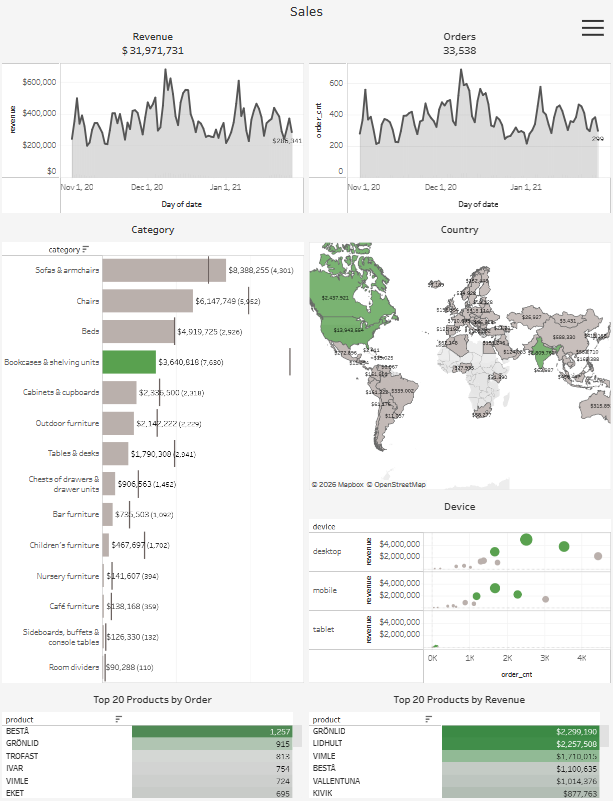

What the dashboard file says about the page in this screenshot:
{"tool":"tableau","page":{"name":"Sales","canvas":[1000,1300],"ordinal":0},"visuals":[{"type":"title","box":[9,9,982,45]},{"type":"dashboard-object","box":[938.9,33.8,37.8,41.6]},{"type":"worksheet","title":"Revenue dynamic","mark":"Automatic","rows":["revenue","revenue"],"cols":["date"],"box":[9,54,491,307]},{"type":"worksheet","title":"Orders dynamic","mark":"Automatic","rows":["order_cnt","order_cnt"],"cols":["date"],"box":[500,54,491,307]},{"type":"filter","title":"Orders dynamic","param":"[federated.07ajvkk1v1vy5j1cp0yjr1rzmz9s].[none:date:qk]","box":[732.2,91,243.3,94.9]},{"type":"filter","title":"Orders dynamic","param":"[federated.07ajvkk1v1vy5j1cp0yjr1rzmz9s].[none:country:nk]","box":[732.2,185.9,243.3,79.3]},{"type":"filter","title":"Orders dynamic","param":"[federated.07ajvkk1v1vy5j1cp0yjr1rzmz9s].[none:category:nk]","box":[732.2,265.2,243.3,79.3]},{"type":"worksheet","title":"Category","mark":"Automatic","rows":["category"],"cols":["revenue","order_cnt"],"box":[9,361,491,747]},{"type":"worksheet","title":"Country","mark":"Automatic","box":[500,361,491,440]},{"type":"worksheet","title":"Device","mark":"Automatic","rows":["device","revenue"],"cols":["order_cnt"],"box":[500,801,491,307]},{"type":"worksheet","title":"Top orders","mark":"Square","rows":["product"],"box":[9,1108,491,183]},{"type":"worksheet","title":"Top Sales","mark":"Square","rows":["product"],"box":[500,1108,491,183]}]}

Visuals, with their boxes in screenshot pixels (x1, y1, x2, y2), scaled from the page's 1000x1300 canvas onto the 613x801 screenshot:
title: bbox=(6, 6, 607, 33)
dashboard-object: bbox=(576, 21, 599, 46)
"Revenue dynamic" worksheet: bbox=(6, 33, 306, 222)
"Orders dynamic" worksheet: bbox=(306, 33, 607, 222)
"Orders dynamic" filter: bbox=(449, 56, 598, 115)
"Orders dynamic" filter: bbox=(449, 115, 598, 163)
"Orders dynamic" filter: bbox=(449, 163, 598, 212)
"Category" worksheet: bbox=(6, 222, 306, 683)
"Country" worksheet: bbox=(306, 222, 607, 494)
"Device" worksheet: bbox=(306, 494, 607, 683)
"Top orders" worksheet (Square marks): bbox=(6, 683, 306, 795)
"Top Sales" worksheet (Square marks): bbox=(306, 683, 607, 795)
